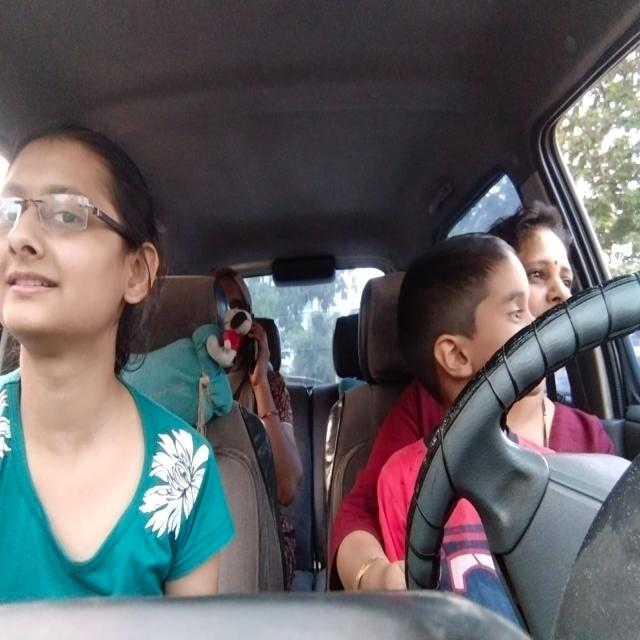child: (392, 227, 548, 391)
person: (0, 126, 166, 346), (508, 200, 586, 320)
